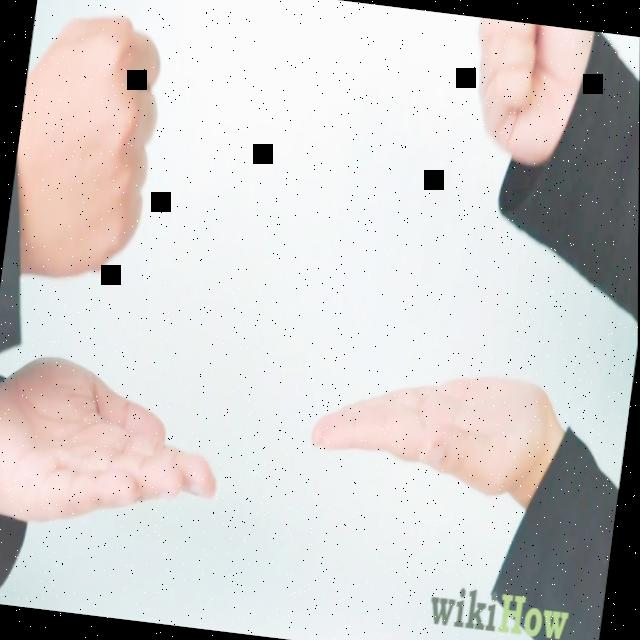Rock: (1, 1, 170, 290), (462, 17, 591, 166)
